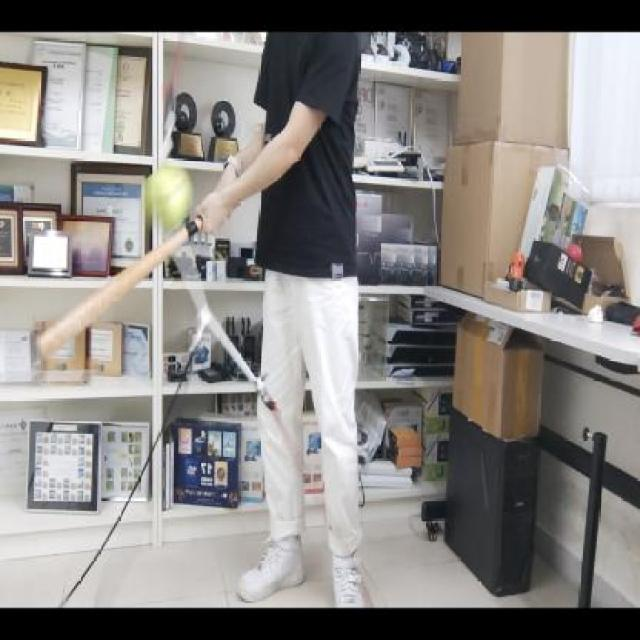baseball: (140, 163, 192, 229)
